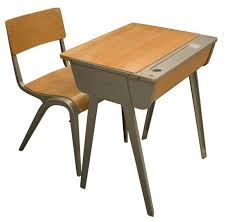desk: (60, 22, 217, 217)
